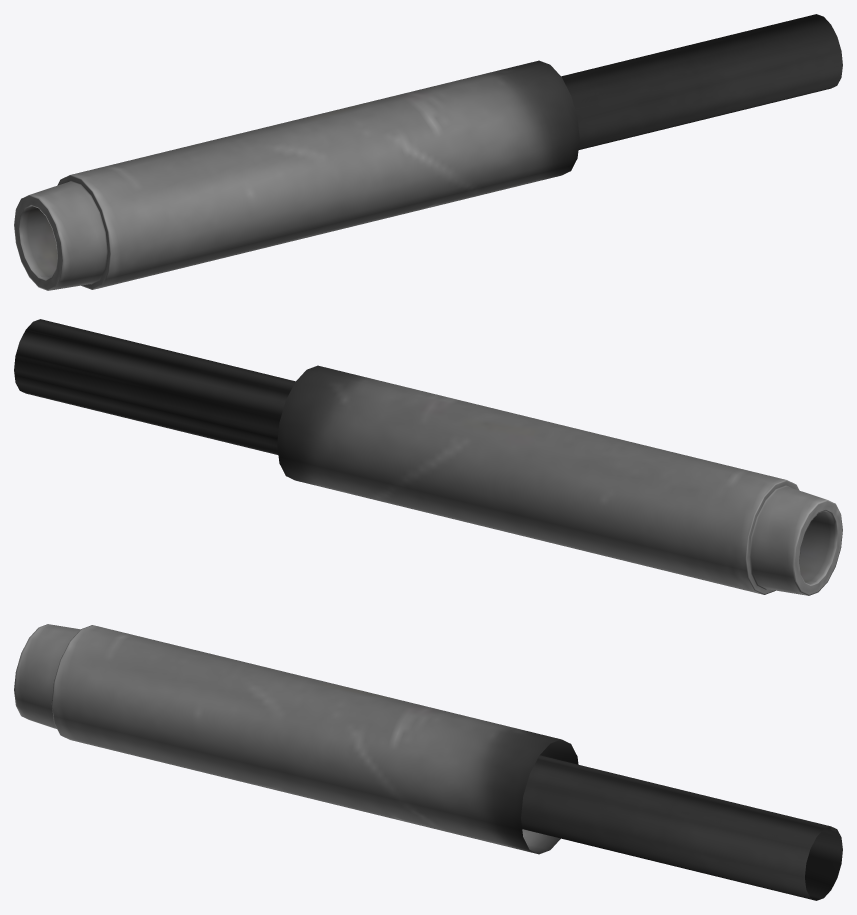
The model's file is Gun4.fbx.
The picture shows the model from 3 angles, top to bottom: view 1: azimuth 30°, elevation 25°; view 2: azimuth 150°, elevation 25°; view 3: azimuth 330°, elevation 25°; orthographic projection.
Visible parts, largest first — view 1: Gun4; view 2: Gun4; view 3: Gun4.
Boxes of the visible parts, x1,y1,x2,y2 form: Gun4: (14,14,842,290); Gun4: (14,319,842,595); Gun4: (14,624,842,900).
Bounding box in the file's own units: 107 × 13.85 × 13.85.
